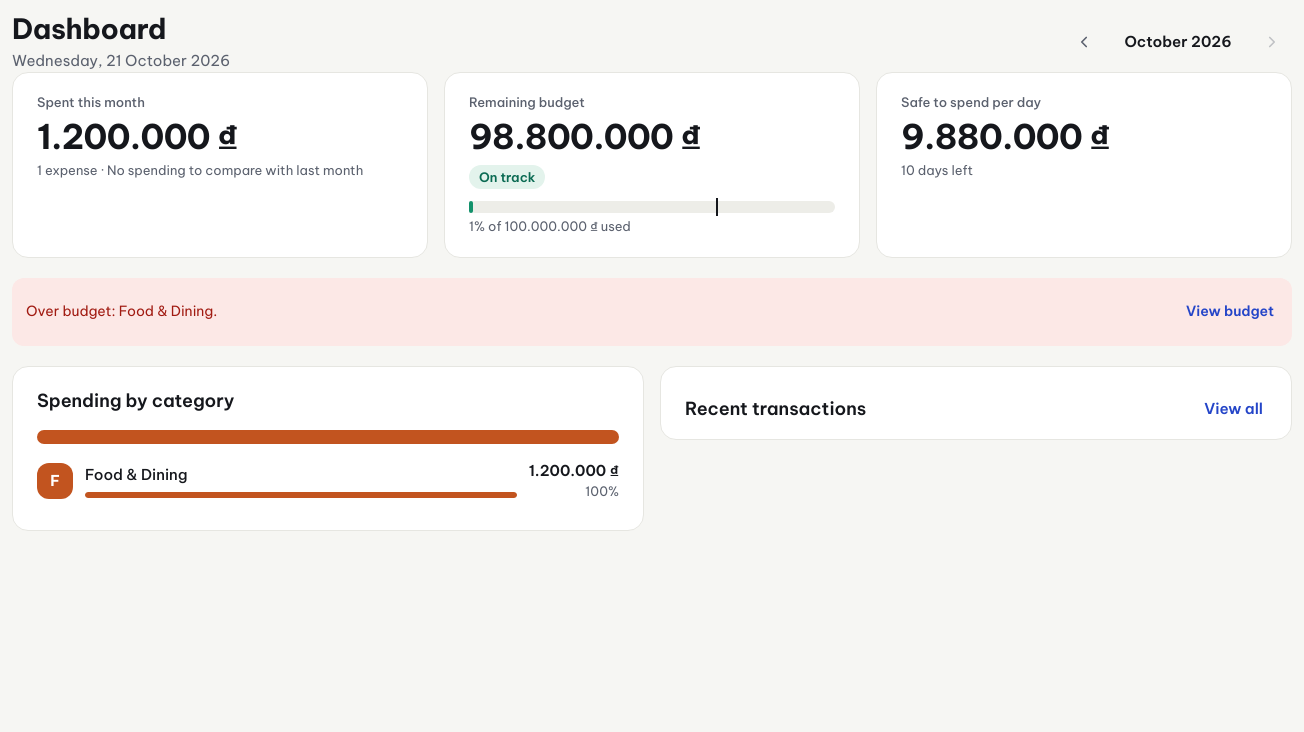
it: Dashboard budget alert strip › R7 follows the data › changes with the month shown in the switcher
Expected: the text "Over budget: Food & Dining." is shown, [26,302,217,320]
What coordinates should you click on to do the following:
click the button named "Previous month"
I would click on:
 (1084, 42)
Its box is [1064,22,1104,62].
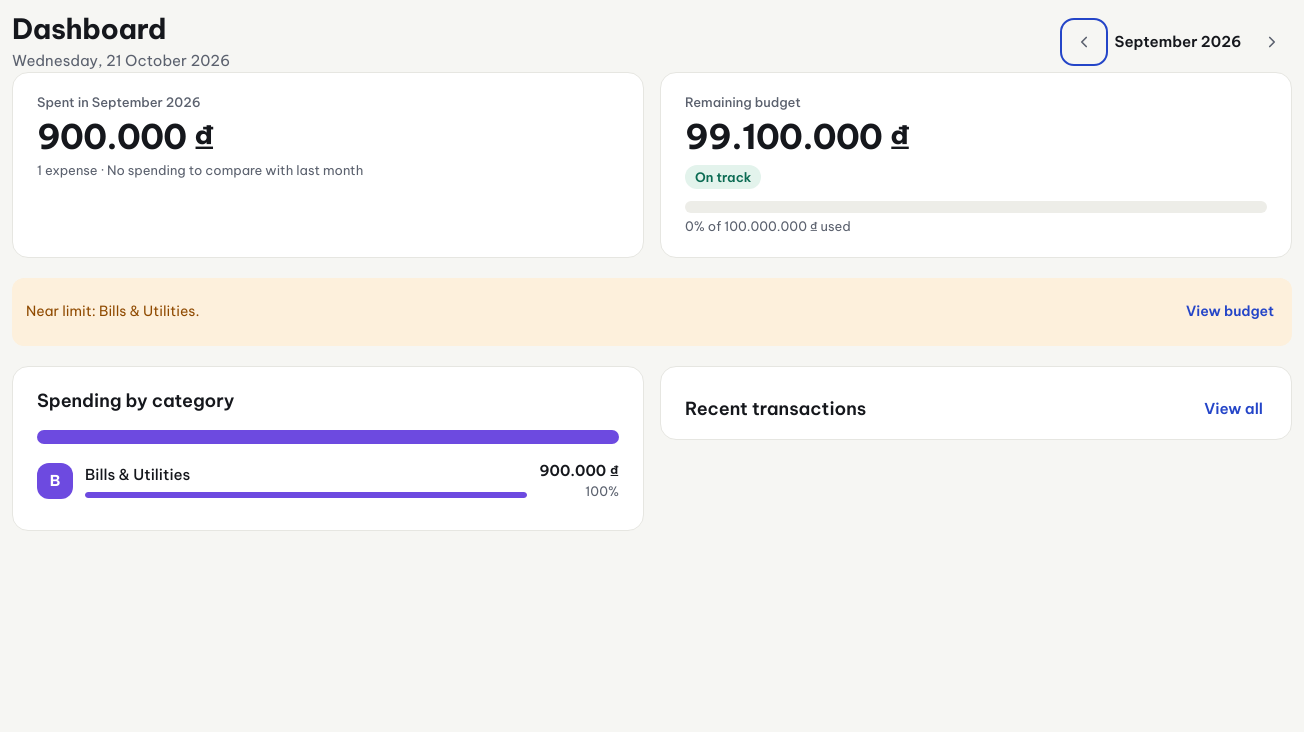
Expected: the text "Near limit: Bills & Utilities." is shown, [26,302,199,320]
Expected: the text "Over budget: " is gone
